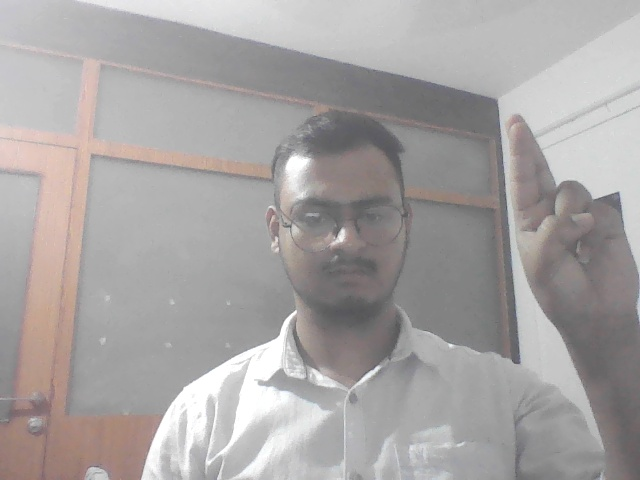GoodLuck: (503, 114, 639, 333)
